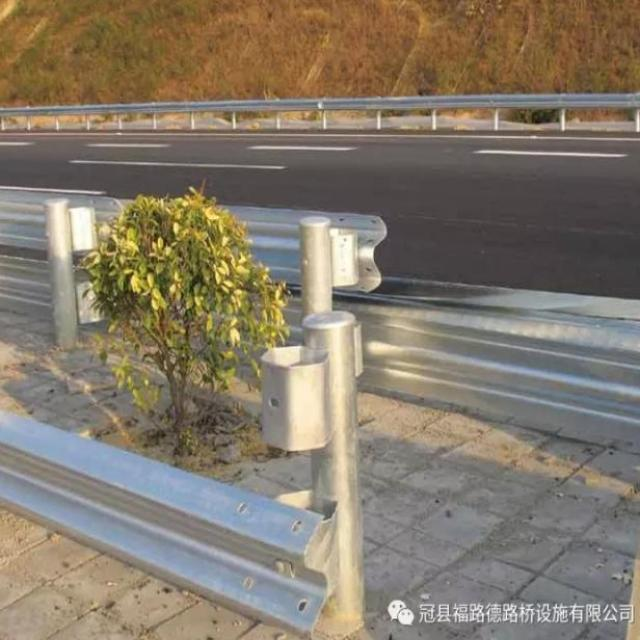Guard rail: (0, 411, 335, 635), (0, 93, 640, 130), (227, 207, 386, 291), (0, 188, 123, 251), (0, 255, 50, 313), (285, 295, 301, 340)
